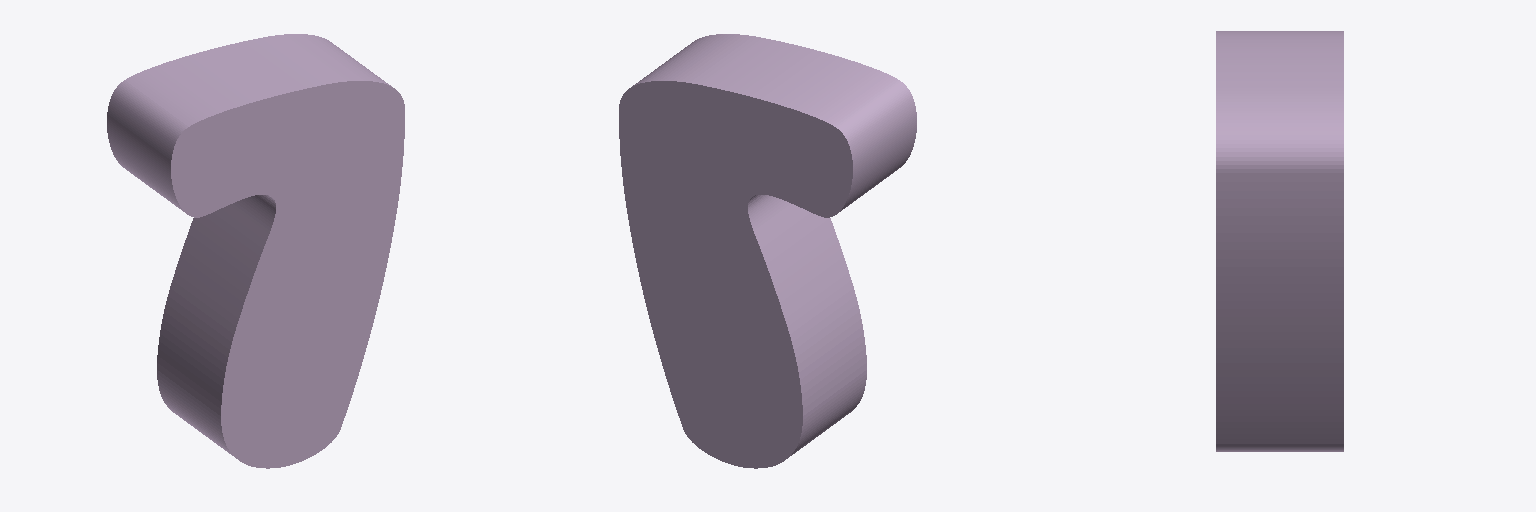
File: Number7.obj
3 views of the same model, side by side, from view 1: azimuth 30°, elevation 25°; view 2: azimuth 150°, elevation 25°; view 3: azimuth 270°, elevation 25° (orthographic).
Parts seen in each view (by area): view 1: Text; view 2: Text; view 3: Text.
Part boxes in pixels (x1,y1,x2,y2): Text: (107,34,404,468); Text: (619,34,916,468); Text: (1216,31,1343,451).
Bounding box in the file's own units: 0.3797 × 0.5775 × 0.18.